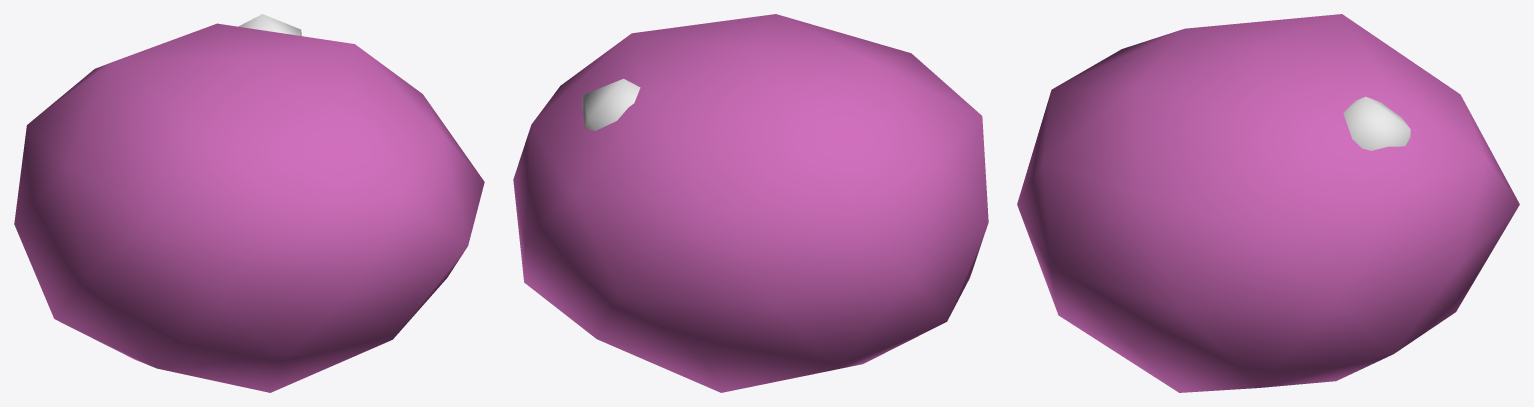
File: volatile_gelatin.glb
3 views of the same model, side by side, from view 1: azimuth 30°, elevation 25°; view 2: azimuth 150°, elevation 25°; view 3: azimuth 270°, elevation 25° (orthographic). The views are drawn at different scales.
Parts seen in each view (by area): view 1: volatile_gelatin_v0; view 2: volatile_gelatin_v0; view 3: volatile_gelatin_v0.
Part boxes in pixels (x1,y1,x2,y2): volatile_gelatin_v0: (14, 14, 484, 392); volatile_gelatin_v0: (513, 14, 988, 392); volatile_gelatin_v0: (1017, 14, 1519, 392).
Size of the model in its own units: 0.2284 by 0.1635 by 0.2383.
